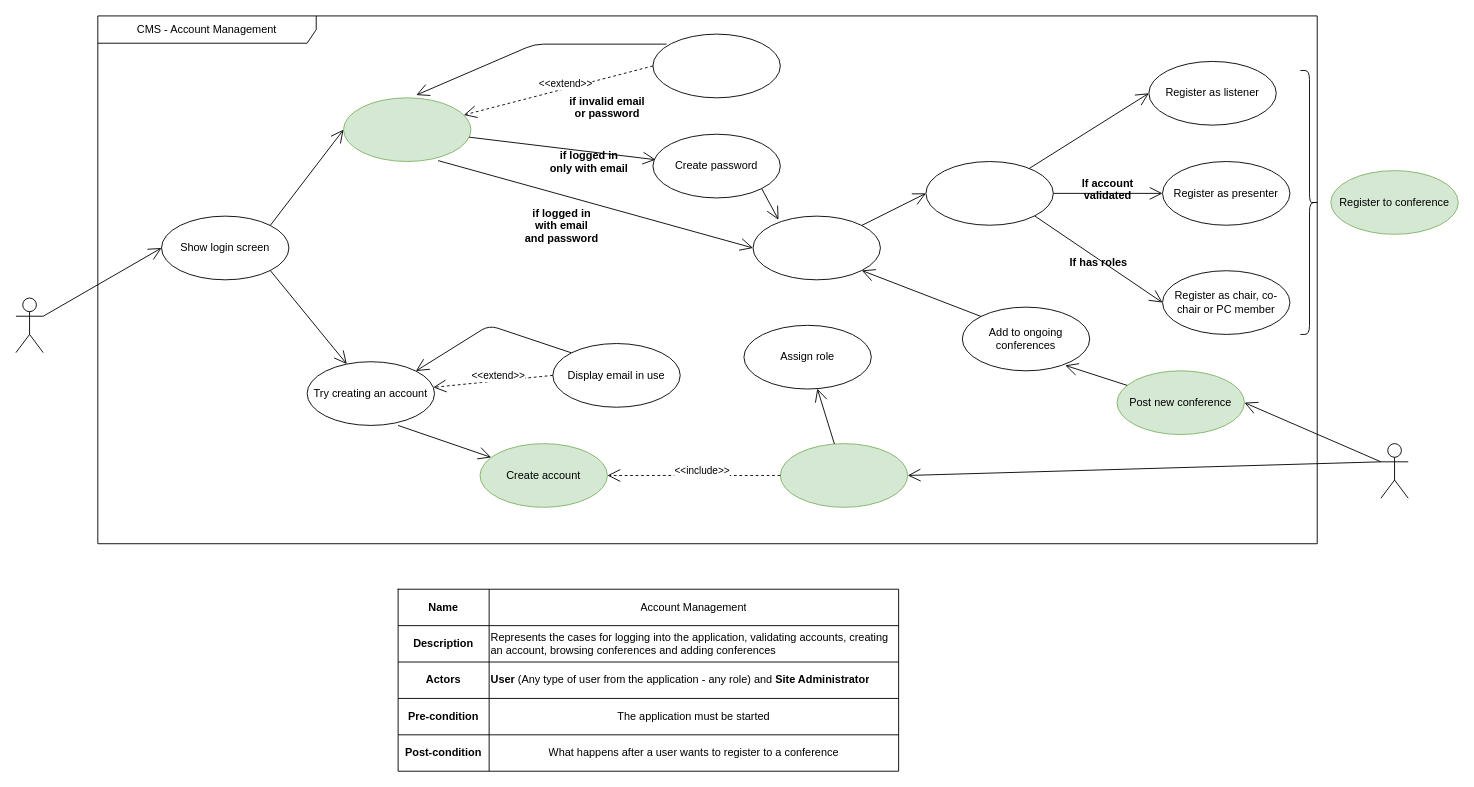
Some shapes in this 1474 by 787 pixel diagram are drawn without their labels. The centre of each missing label's shape, as x and y in pixels:
"Choose conference" belongs at [989,193].
"Display list of ongoing conferences" belongs at [816,247].
"Show invalid credentials" belongs at [716,65].
"Site administrator" belongs at [1394,470].
"Try to log in" belongs at [407,129].
"User" belongs at [29,325].
"Validate account" belongs at [843,475].
